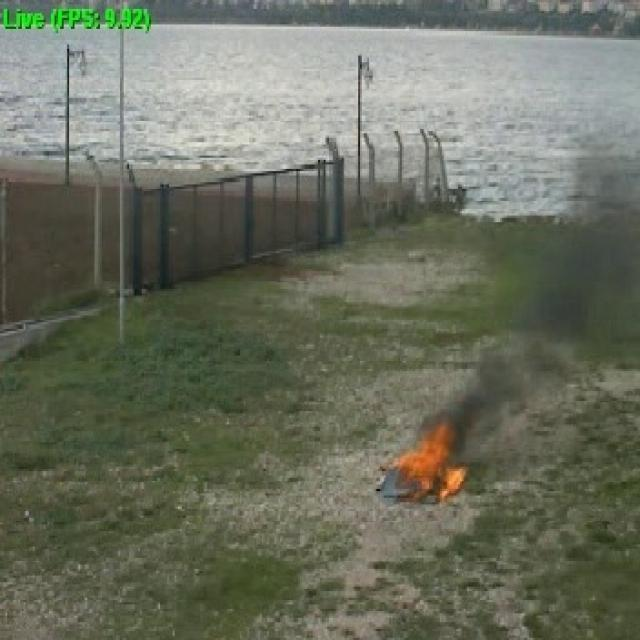Fire: (387, 440, 465, 500)
Smoke: (456, 296, 640, 380)
